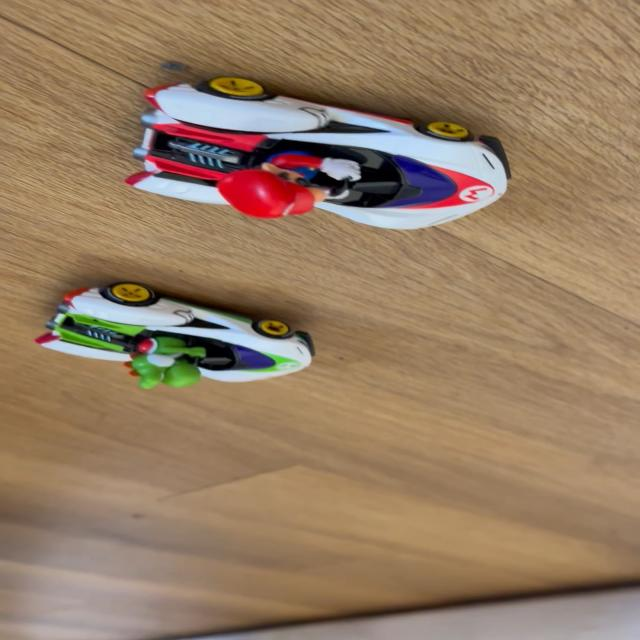mario: (108, 74, 525, 240)
yoshi: (33, 270, 330, 400)
